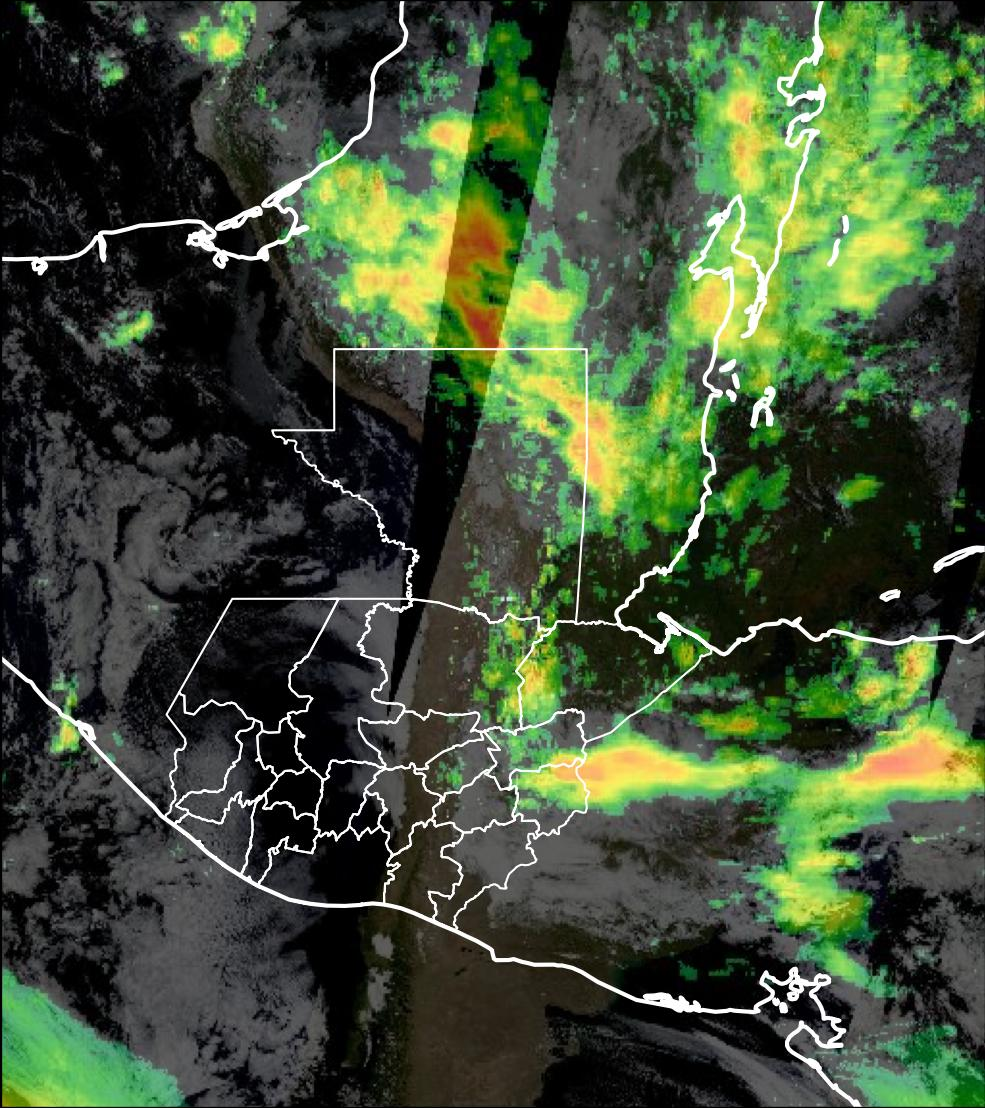precipitacion: (430, 212, 529, 346), (843, 719, 975, 796), (550, 744, 692, 797)
